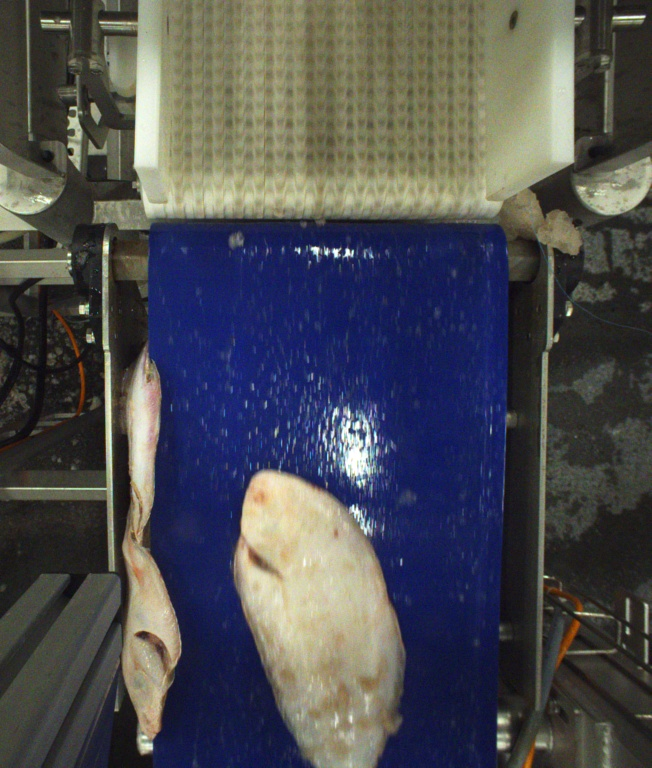SOL: (236, 469, 408, 768)
